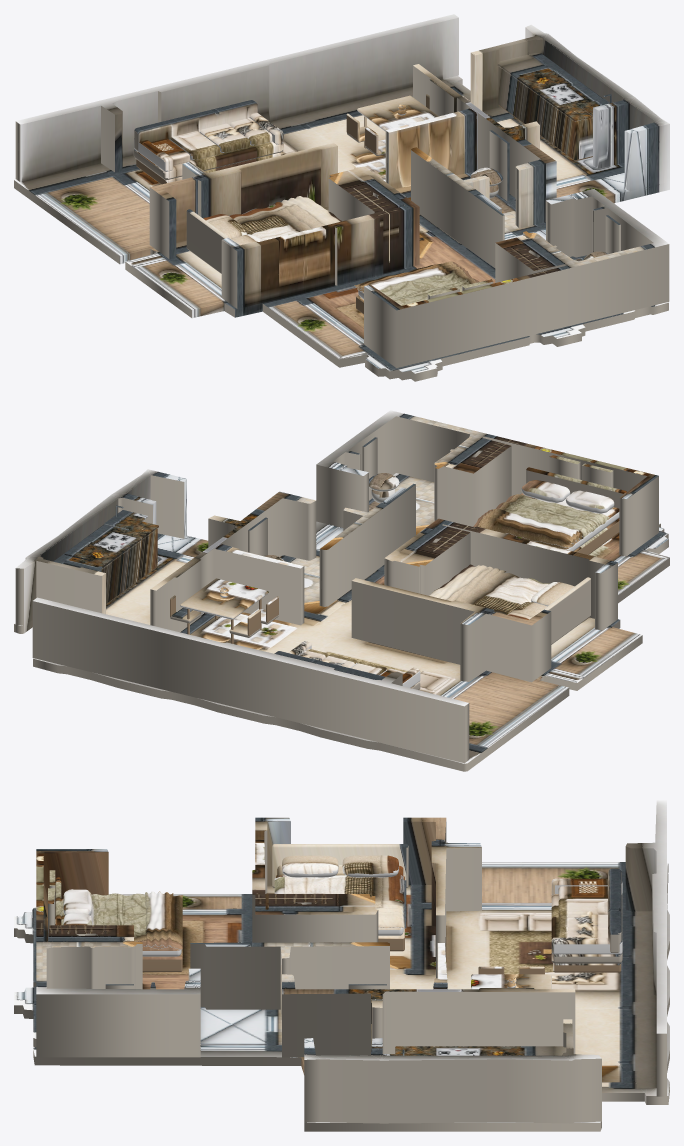
The model's file is p13-01-u10-2110-image-model.glb.
The picture shows the model from 3 angles, top to bottom: view 1: azimuth 30°, elevation 25°; view 2: azimuth 150°, elevation 25°; view 3: azimuth 270°, elevation 25°; orthographic projection. The views are drawn at different scales.
Visible parts, largest first — view 1: Partition walls, Apartment floor, Kitchen cabinets, Stone worktop, Sofa back, Draped bed linen.002, Upholstered sofa frame, Draped bed linen, Marble dining top, Upholstered headboard.001, Draped bed linen.001, Draped bed linen.003 (+7 smaller); view 2: Partition walls, Apartment floor, Draped bed linen, Draped bed linen.002, Kitchen cabinets, Marble dining top, Stone worktop, Upholstered headboard.001, Draped bed linen.001, Upholstered headboard, Draped bed linen.003, Tailored pillow (+6 smaller); view 3: Partition walls, Apartment floor, Draped bed linen.002, Draped bed linen, Upholstered headboard.001, Stone worktop, Draped bed linen.001, Tailored pillow.002, Tailored pillow.003, Upholstered sofa frame, Sofa back, Padded armrest.001 (+9 smaller).
Boxes of the visible parts, box(x1,y1,x2,y2) form: Partition walls: box(15, 14, 669, 368); Apartment floor: box(14, 75, 669, 381); Kitchen cabinets: box(498, 66, 592, 161); Stone worktop: box(497, 53, 602, 121); Sofa back: box(134, 100, 257, 150); Draped bed linen.002: box(229, 197, 341, 240); Upholstered sofa frame: box(133, 141, 283, 180); Draped bed linen: box(354, 262, 479, 305); Marble dining top: box(357, 95, 438, 131); Upholstered headboard.001: box(186, 209, 234, 273); Draped bed linen.001: box(358, 261, 468, 292); Draped bed linen.003: box(274, 196, 337, 228); Partition walls: box(15, 410, 658, 763); Apartment floor: box(14, 473, 669, 771); Draped bed linen: box(473, 494, 609, 547); Draped bed linen.002: box(429, 564, 549, 614); Kitchen cabinets: box(99, 529, 157, 604); Marble dining top: box(180, 578, 268, 619); Stone worktop: box(53, 521, 158, 571); Upholstered headboard.001: box(535, 577, 590, 644); Draped bed linen.001: box(477, 509, 585, 544); Upholstered headboard: box(526, 467, 626, 508); Draped bed linen.003: box(433, 565, 505, 601); Tailored pillow: box(565, 490, 614, 513); Partition walls: box(36, 800, 666, 1123); Apartment floor: box(14, 862, 669, 1131); Draped bed linen.002: box(274, 876, 406, 928); Draped bed linen: box(91, 893, 182, 949); Upholstered headboard.001: box(272, 844, 408, 887); Stone worktop: box(395, 1046, 566, 1055); Draped bed linen.001: box(145, 891, 173, 947); Tailored pillow.002: box(282, 855, 338, 877); Tailored pillow.003: box(342, 855, 398, 877); Upholstered sofa frame: box(551, 894, 622, 963); Sofa back: box(608, 868, 621, 952); Padded armrest.001: box(551, 937, 622, 954).
Bounding box in the file's own units: 10.15 × 1.3 × 10.76.
Materials: 13 (3 with a texture image).
